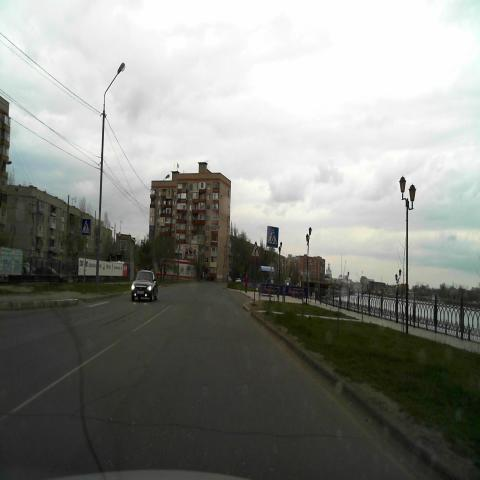1_11: (250, 241, 260, 258)
5_19_1: (267, 226, 278, 246), (82, 218, 90, 234)
